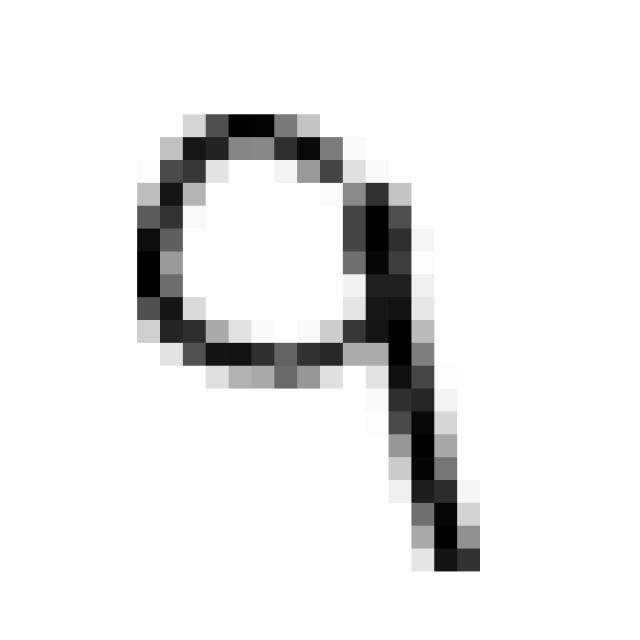9 -nine-: (116, 87, 492, 588)
